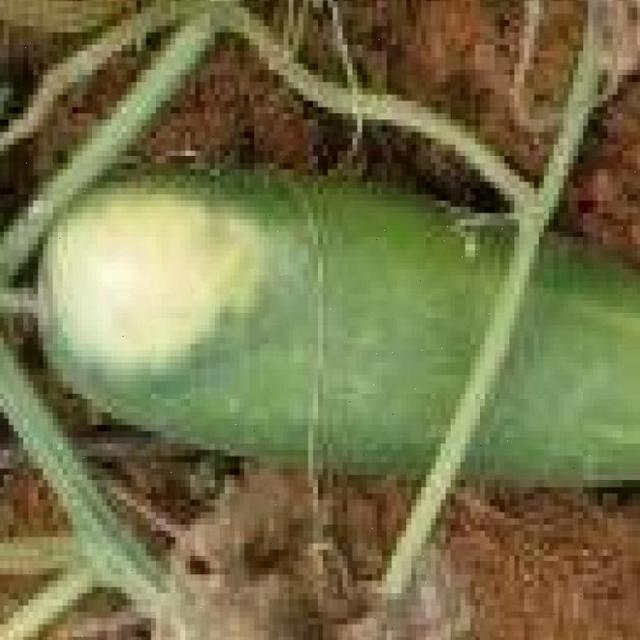Sunscald Fruit: (24, 134, 191, 259)
